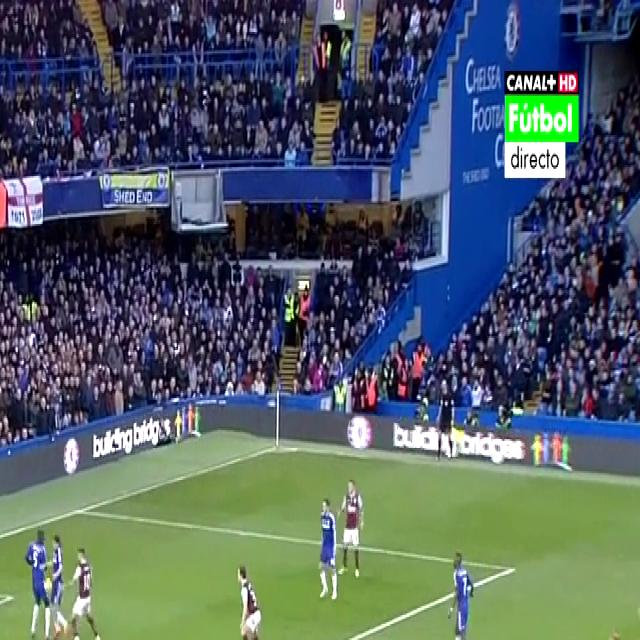referee: (430, 376, 457, 466)
soccer-player: (62, 533, 105, 640), (313, 487, 347, 607), (23, 515, 55, 640), (445, 537, 483, 640), (338, 471, 369, 588), (230, 549, 269, 640), (46, 524, 70, 640), (599, 618, 640, 640)
